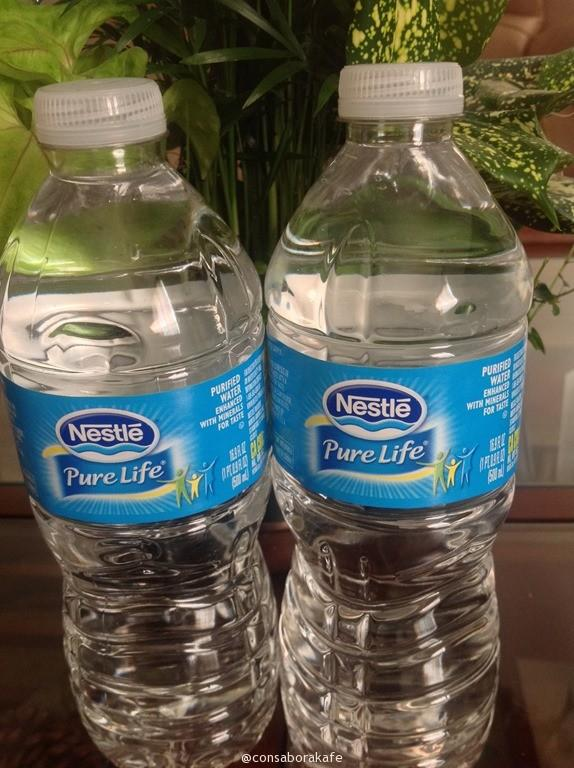plastic: (0, 62, 534, 768)
